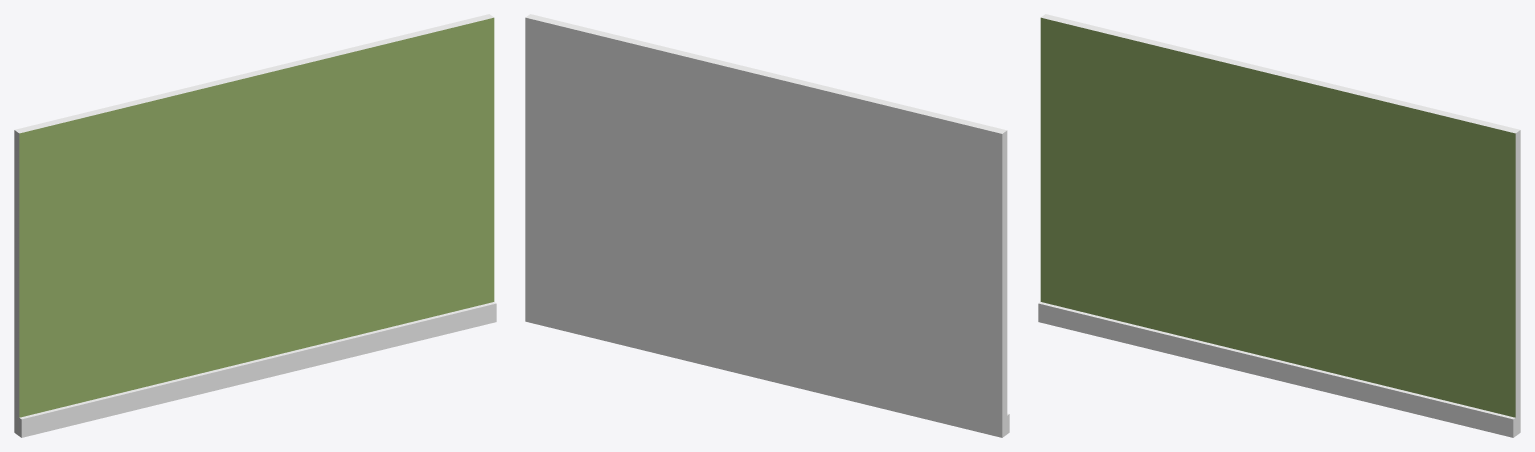
The model's file is Wall 2.FBX.
3 renders of one model, left to right at view 1: azimuth 30°, elevation 25°; view 2: azimuth 150°, elevation 25°; view 3: azimuth 330°, elevation 25°, orthographic.
Visible parts, largest first — view 1: wall 2; view 2: wall 2; view 3: wall 2.
Part boxes in pixels (x1,y1,x2,y2): wall 2: [14, 14, 496, 437]; wall 2: [525, 14, 1009, 437]; wall 2: [1038, 14, 1520, 437].
Size of the model in its own units: 492 by 12.86 by 300.
